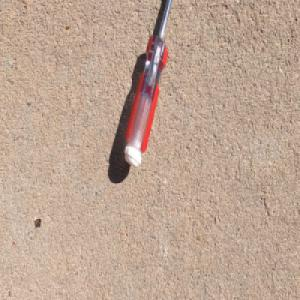Screwdriver: (123, 0, 173, 170)
